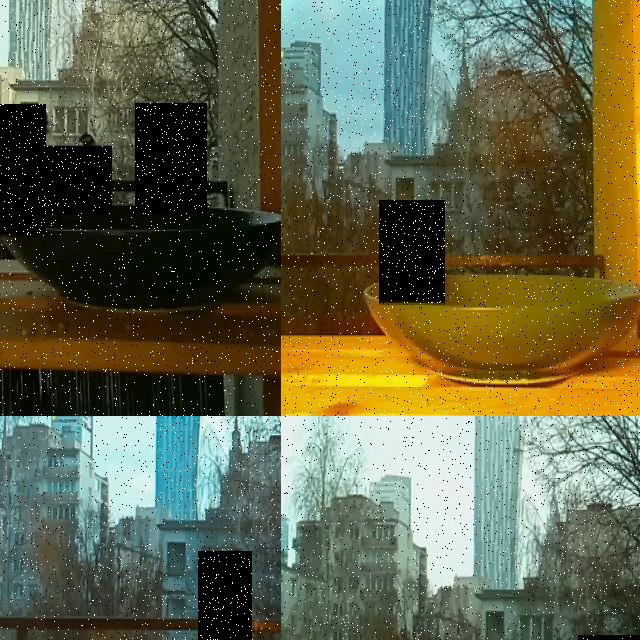Bogatka: (198, 551, 252, 640)
Wrobel: (135, 103, 207, 214), (12, 146, 112, 215), (379, 200, 445, 304), (0, 104, 46, 236)
